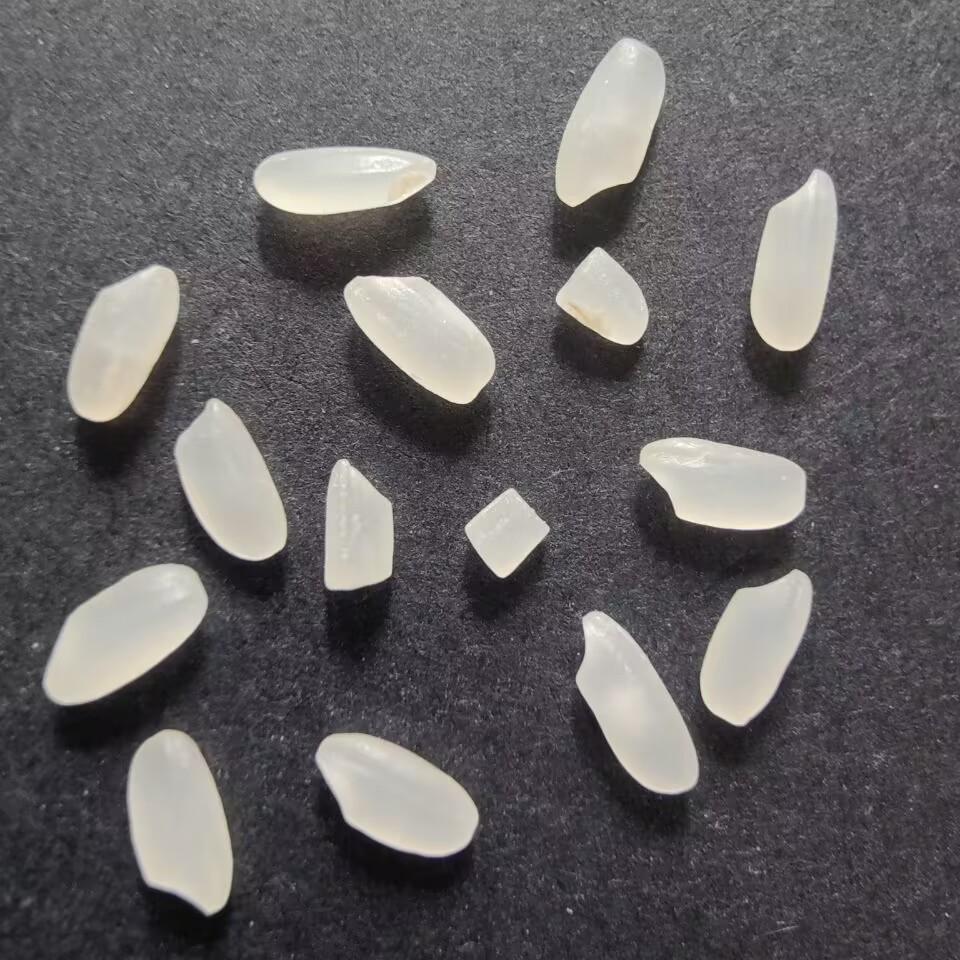broken: (314, 452, 404, 597), (549, 243, 650, 350), (459, 484, 554, 581)
rice: (36, 558, 207, 712), (569, 607, 703, 799), (307, 729, 485, 861), (339, 268, 500, 411), (116, 727, 235, 919), (548, 33, 671, 209), (695, 562, 819, 732), (61, 261, 185, 429), (167, 395, 290, 563), (635, 434, 811, 541), (746, 164, 840, 357), (242, 145, 441, 216)
